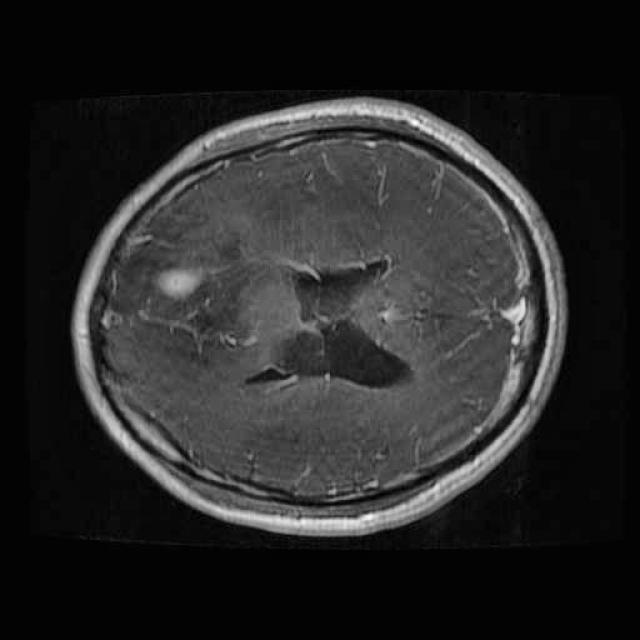Non-Tumor: (149, 246, 235, 306)
